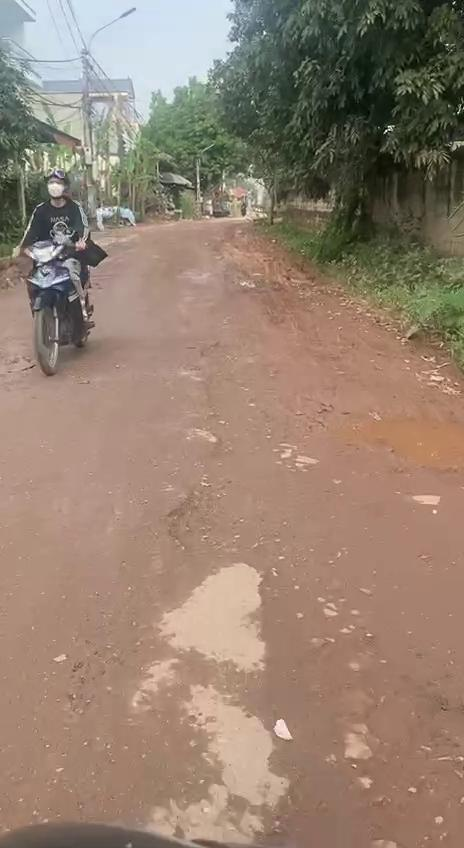pothole: (340, 400, 464, 470)
